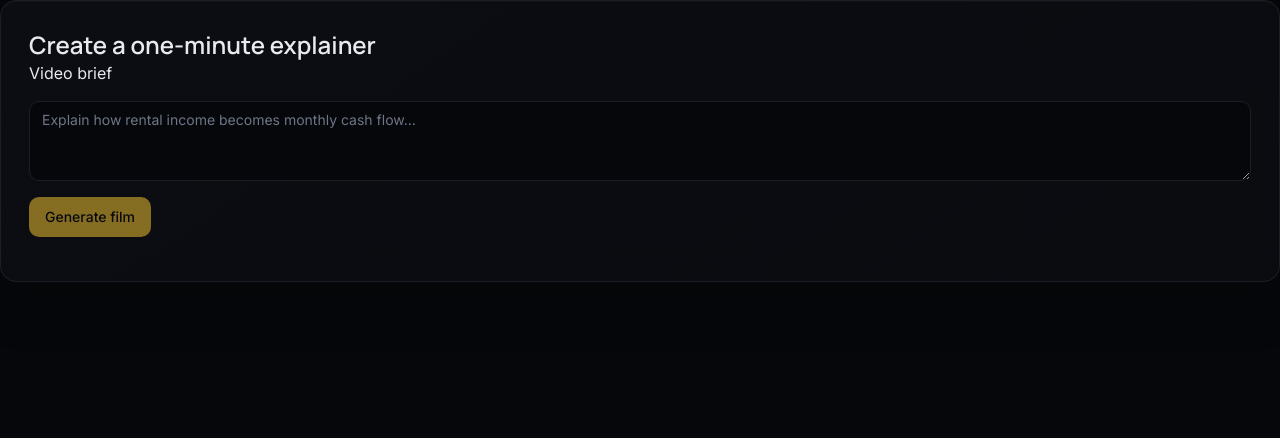
plans the Explainer from its brief without requiring a separate title
In the text box labelled "Video brief": (640, 141) top-left (29, 101), bottom-right (1251, 181), type "  Explain how rain forms.  "
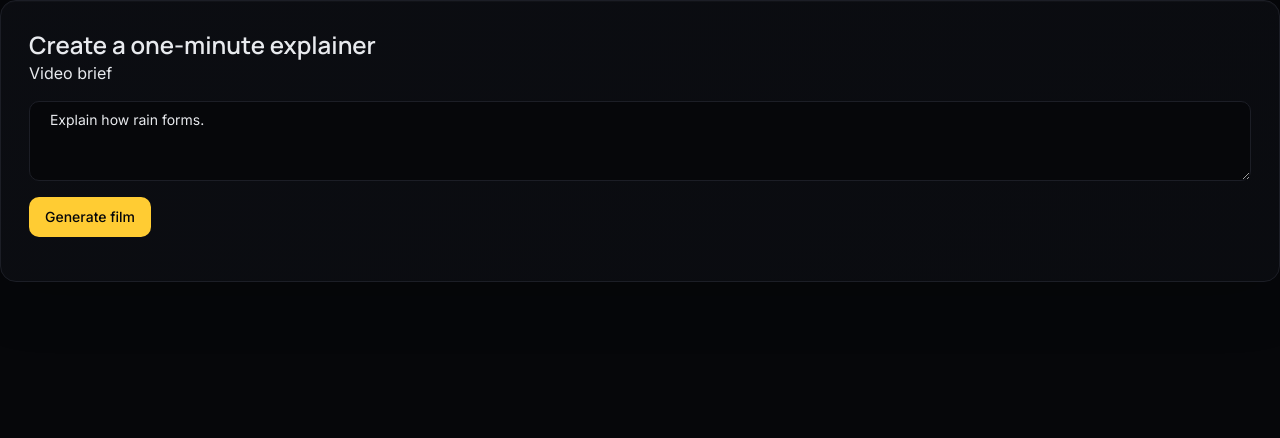
Click the button "Generate film": (90, 217) top-left (29, 197), bottom-right (151, 237)
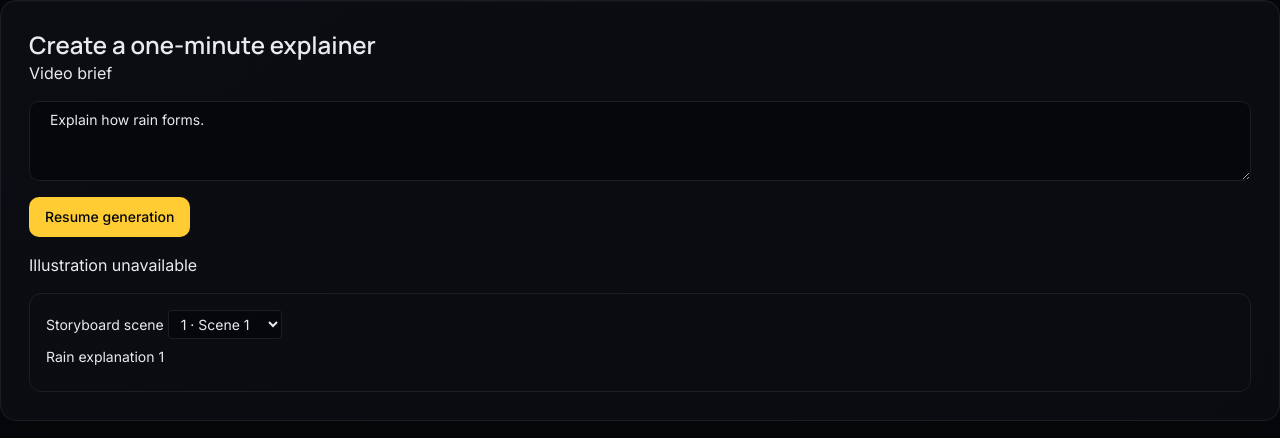
Expected: the button "Resume generation" is enabled, top-left (29, 197), bottom-right (190, 237)
Expected: the message reads "Illustration unavailable", top-left (29, 255), bottom-right (197, 275)
